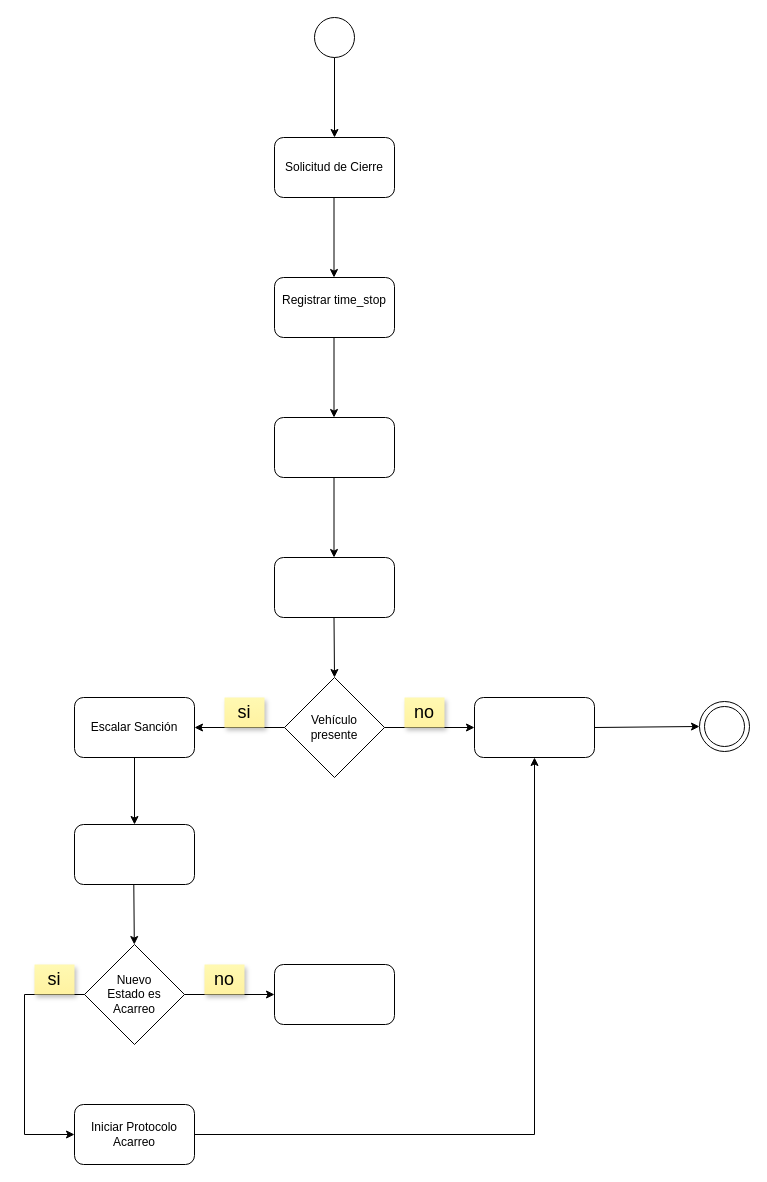
Some shapes in this 767 by 1182 pixel diagram are drawn without their labels. Each missing label, with the centre of its shape:
"Finalizar Sesión" belongs at (534,727).
"Notificar al Usuario" belongs at (134,854).
"Rechazar Cierre de Sesión" belongs at (334,994).
"Recibir resultado de inspección" belongs at (334,587).
"Solicitar inspección" belongs at (334,447).
